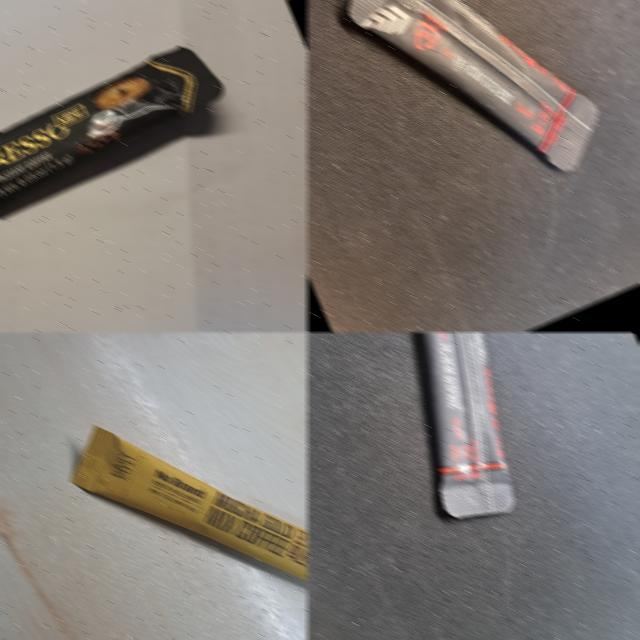KANU: (313, 0, 632, 243), (328, 332, 582, 558)
espresso_mini: (0, 31, 247, 312)
mix_coffee: (38, 332, 308, 640)
